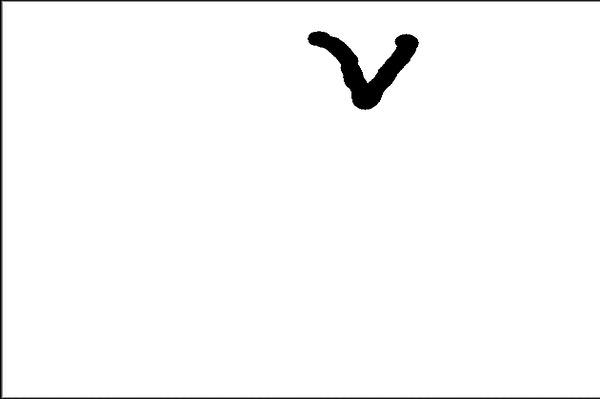V: (303, 24, 423, 116)
